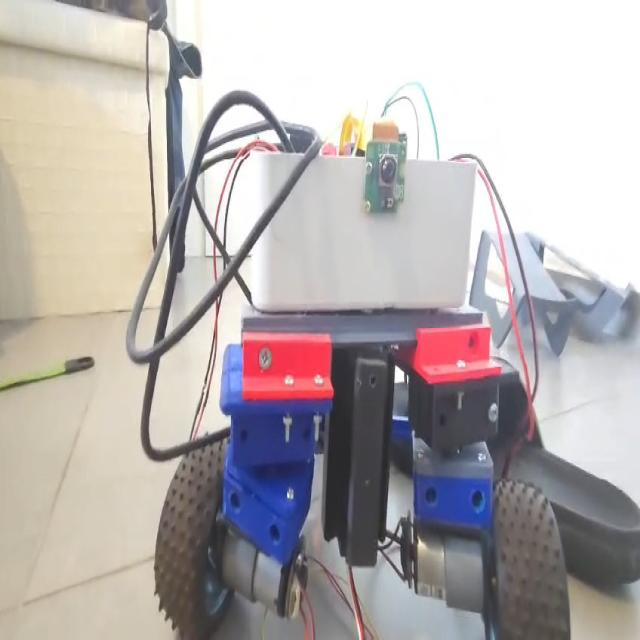Robot: (149, 68, 577, 640)
